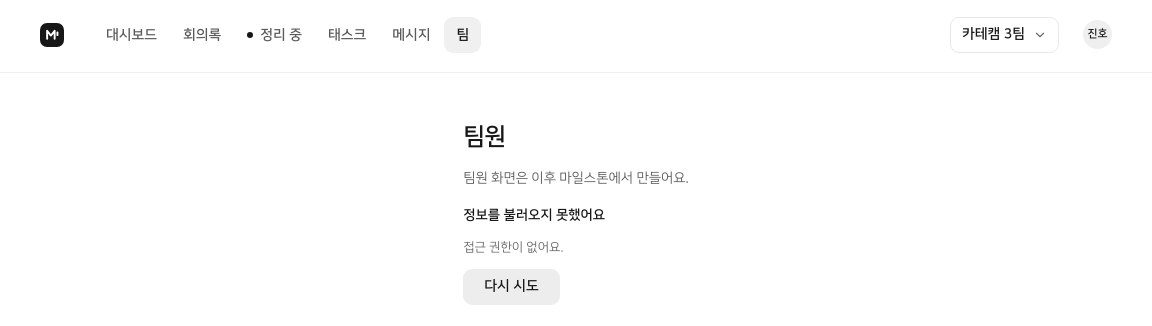
Test case: 예상할 수 있는 조회 실패 › 레이아웃은 둔 채 인라인 안내와 다시 시도를 보여 주고, 다시 시도하면 회복한다
The image size is (1152, 326).
Expected: the message shows "접근 권한이 없어요.", [463,240,564,254]
Expected: the message does not show "member check failed", [463,208,605,304]
Click the button "다시 시도" at (511, 286), box [463,268,560,304]
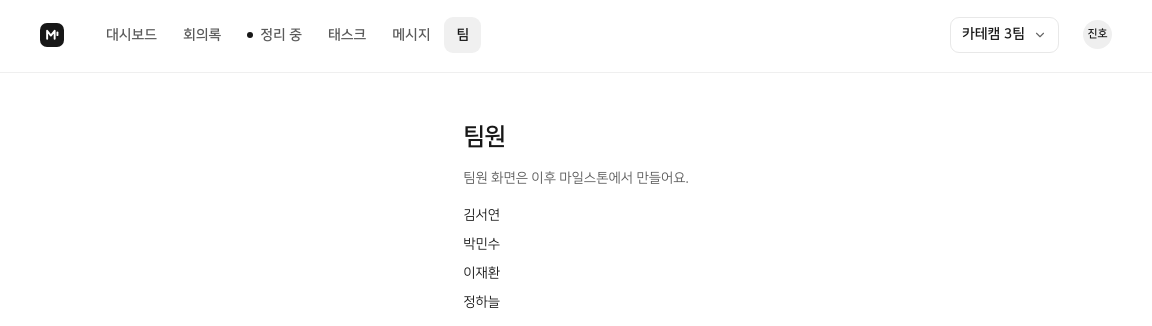
Now the list item "김서연" is shown, box [463,208,500,222]
